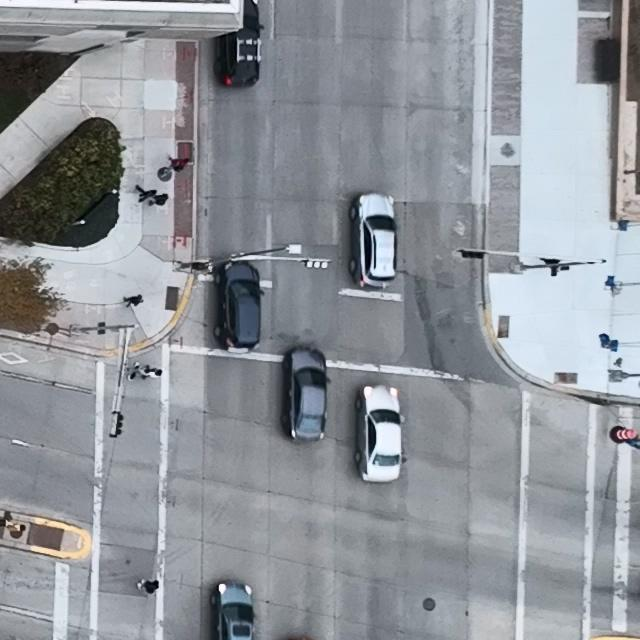car: (354, 384, 405, 483), (348, 192, 397, 291), (281, 348, 331, 443), (213, 262, 264, 352), (213, 0, 265, 88), (210, 581, 257, 640)
